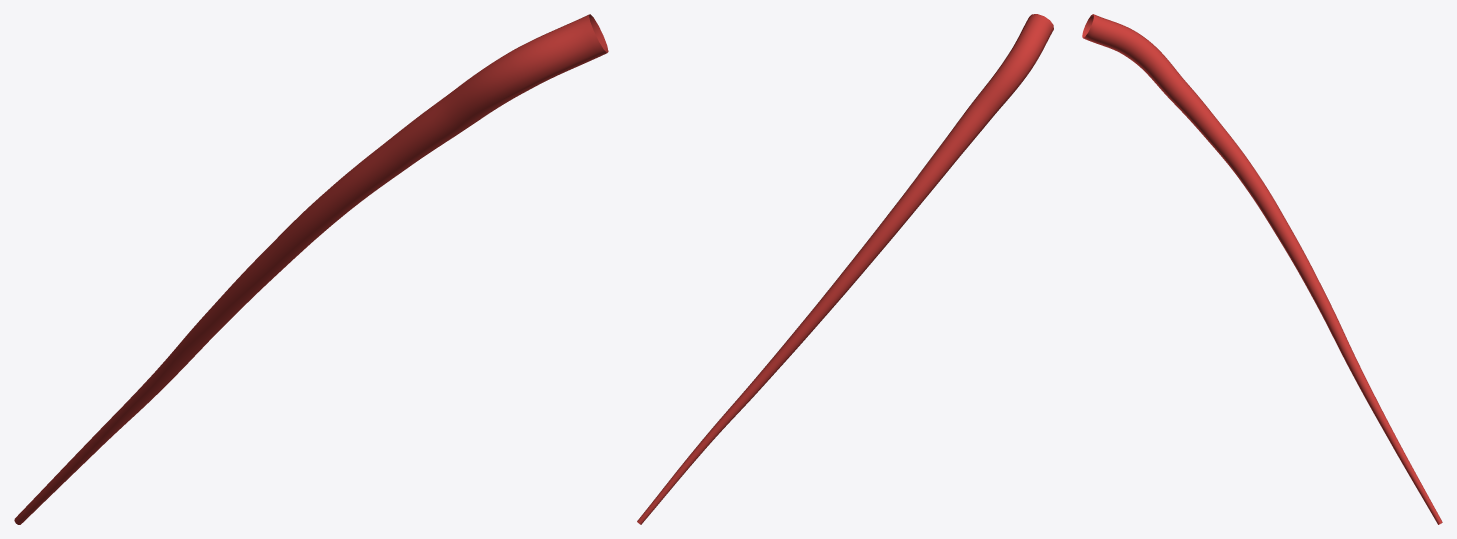
3 renders of one model, left to right at view 1: azimuth 90°, elevation 25°; view 2: azimuth 150°, elevation 25°; view 3: azimuth 270°, elevation 25°, orthographic. The views are drawn at different scales.
Visible parts, largest first — view 1: 右侧上牙槽后动脉; view 2: 右侧上牙槽后动脉; view 3: 右侧上牙槽后动脉.
Part boxes in pixels (bbox=[...]): 右侧上牙槽后动脉: bbox=[14, 14, 608, 524]; 右侧上牙槽后动脉: bbox=[637, 14, 1053, 524]; 右侧上牙槽后动脉: bbox=[1082, 14, 1442, 524].
Size of the model in its own units: 0.0143 by 0.0251 by 0.0201.
